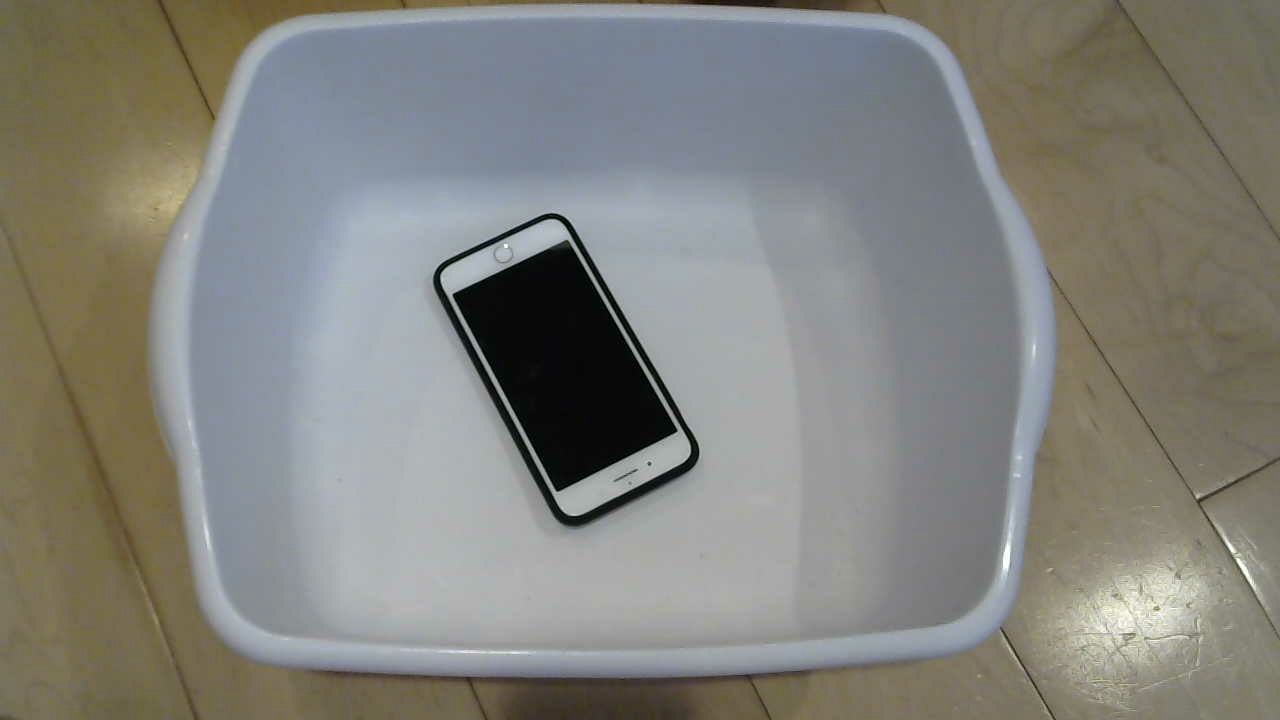phone: (431, 213, 710, 547)
